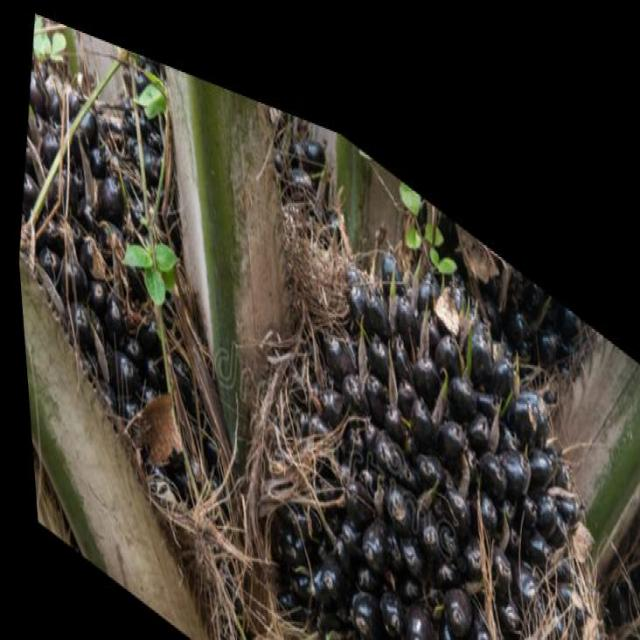Unripe: (222, 111, 628, 640)
